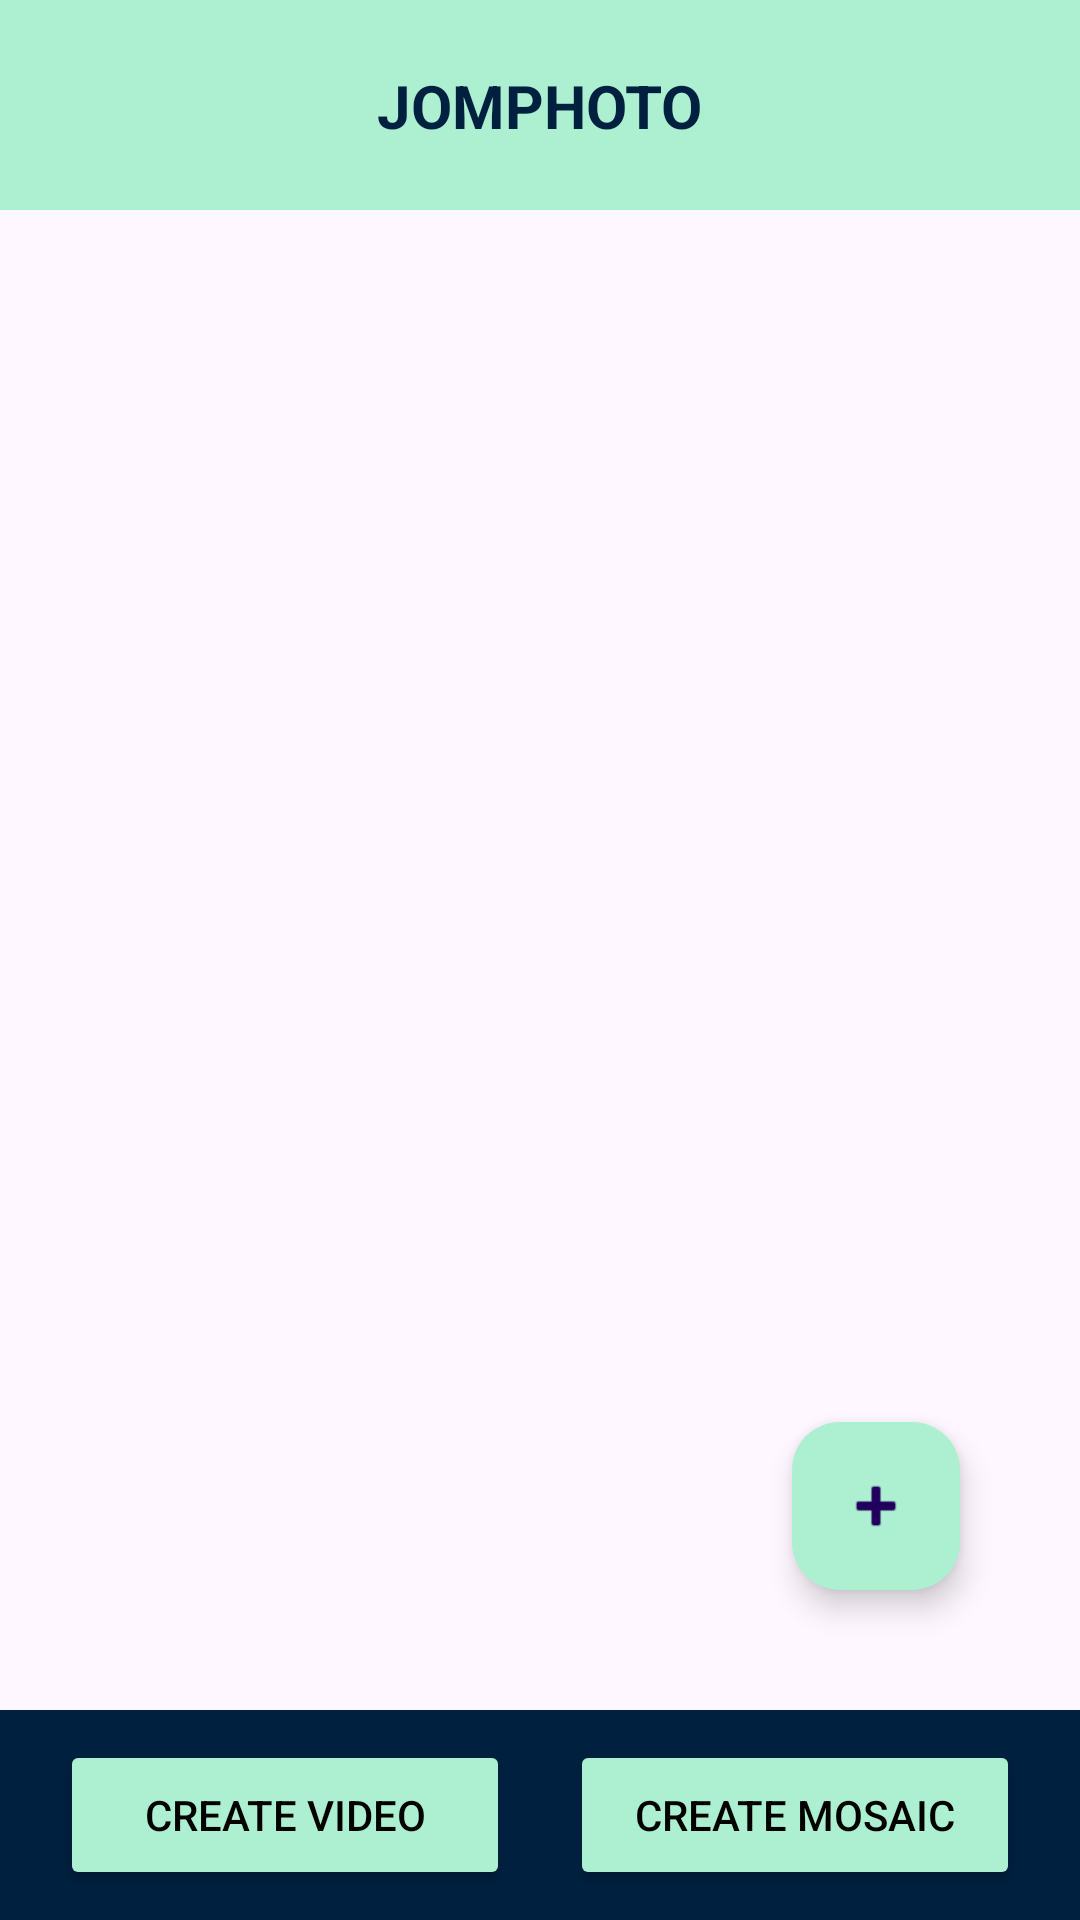

Icons on this 1080px×1920px Android screen, each with its box as [x1=x1, y1=y1, x2=x2, y2=y2]:
add: [x1=792, y1=1422, x2=960, y2=1590]
